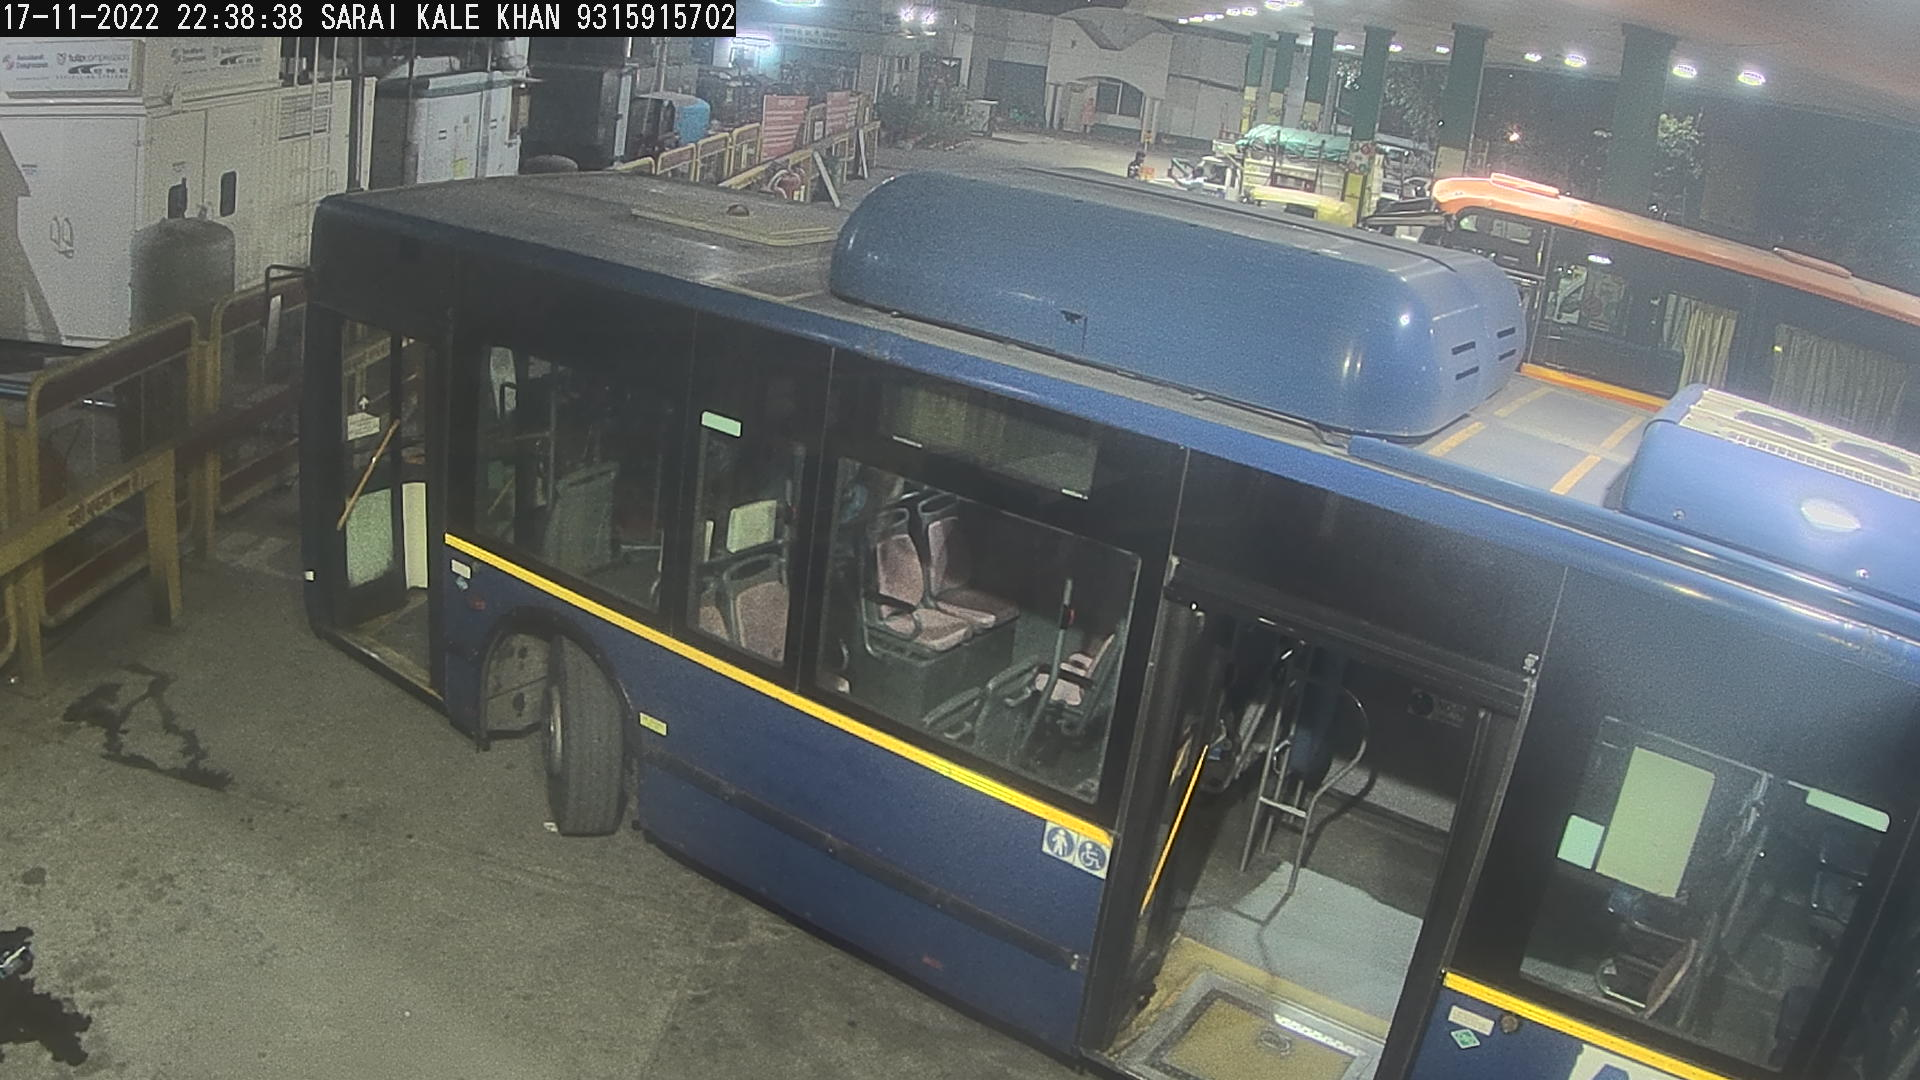Auto: (1234, 175, 1375, 243)
Car: (1367, 135, 1445, 233)
HMV: (251, 142, 1915, 1073), (1335, 161, 1913, 485), (1131, 116, 1375, 237)
Others Other: (1134, 154, 1155, 186)
